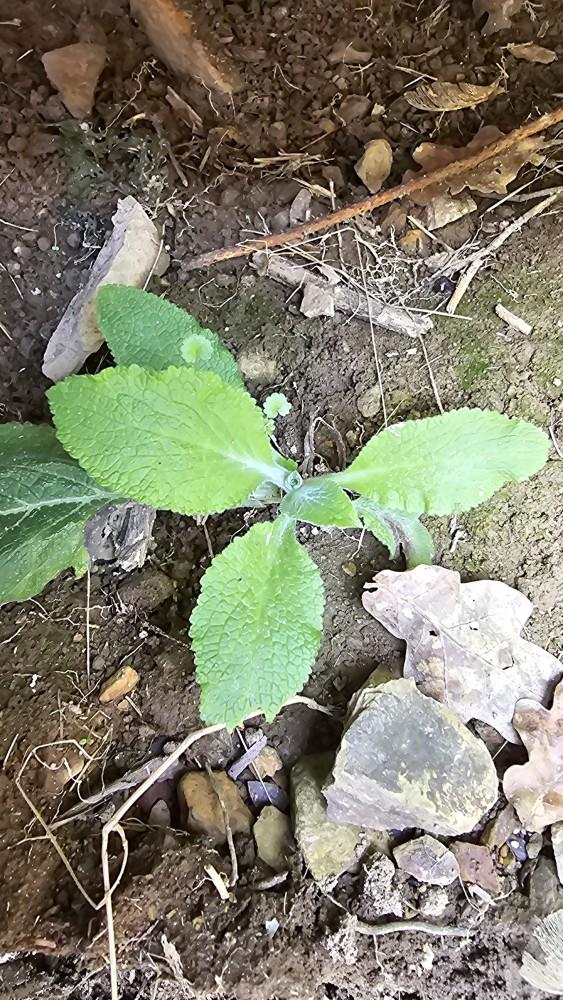Digitalis L: (0, 283, 550, 698)
